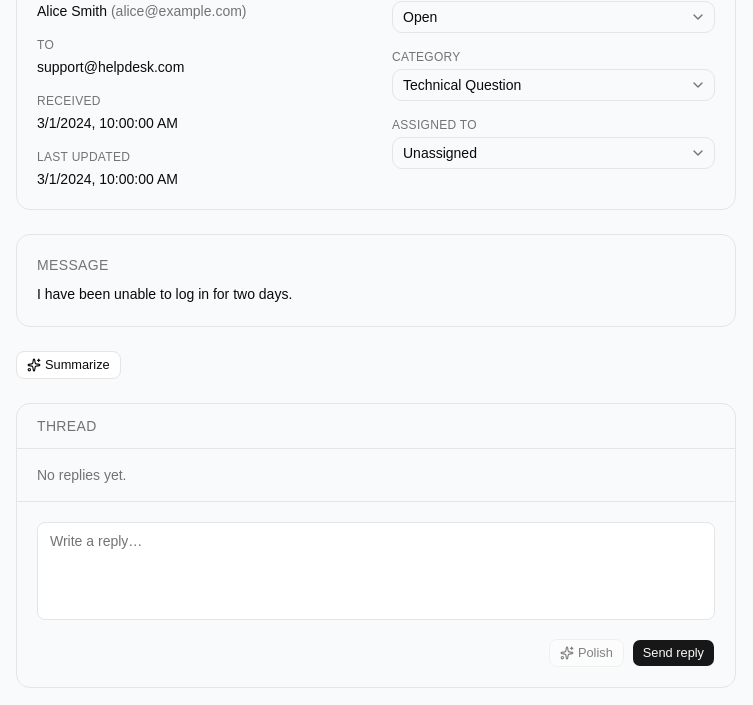
it: TicketDetailPage › polish reply › enables the Polish button once the textarea has content
(page scrolled)
Type "draft text" into the text box with placeholder "Write a reply…" at (376, 571), box [37, 522, 715, 620]
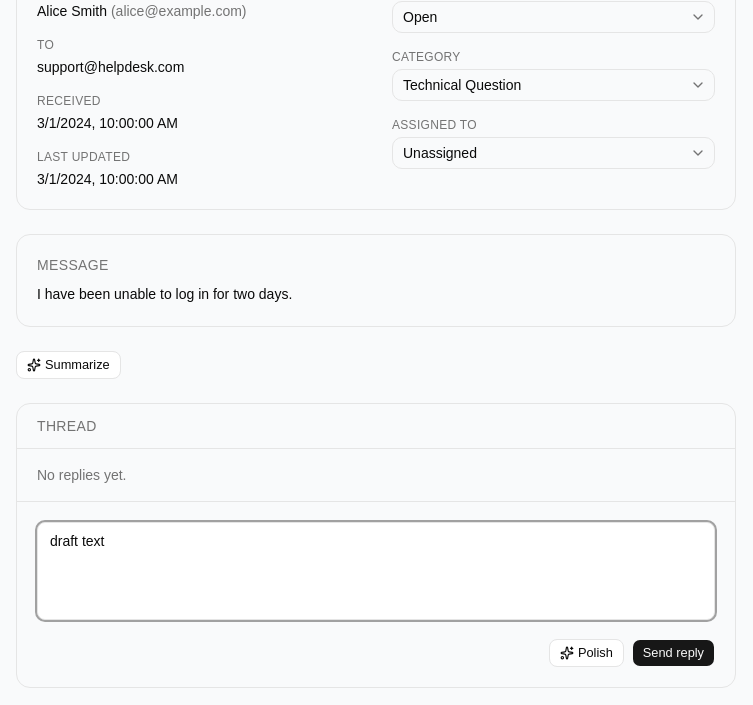
Check: the button "Polish" is enabled, box [549, 639, 624, 667]
